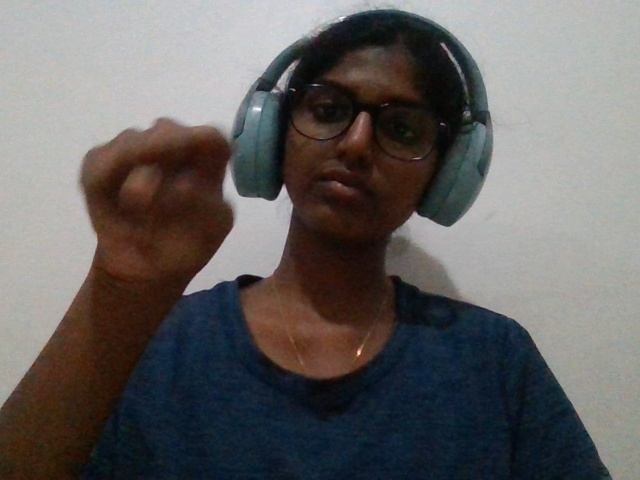Yes: (53, 100, 235, 307)
